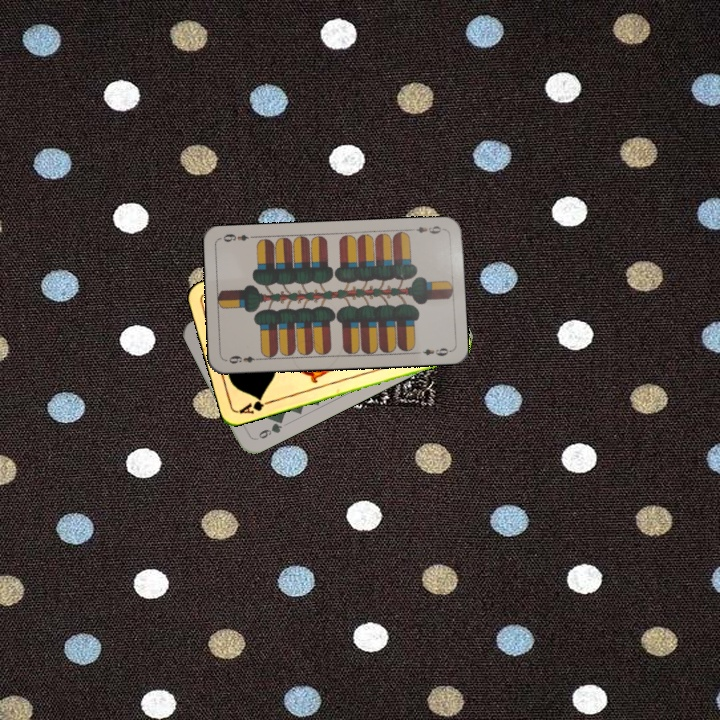E9: (406, 222, 447, 236), (223, 352, 263, 366)
G9: (250, 414, 286, 443)
GA: (235, 393, 275, 416)
